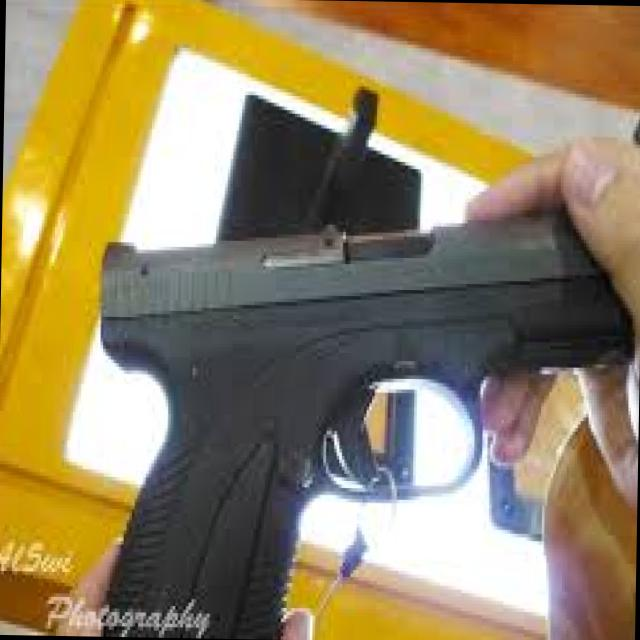Gun: (97, 177, 640, 640)
